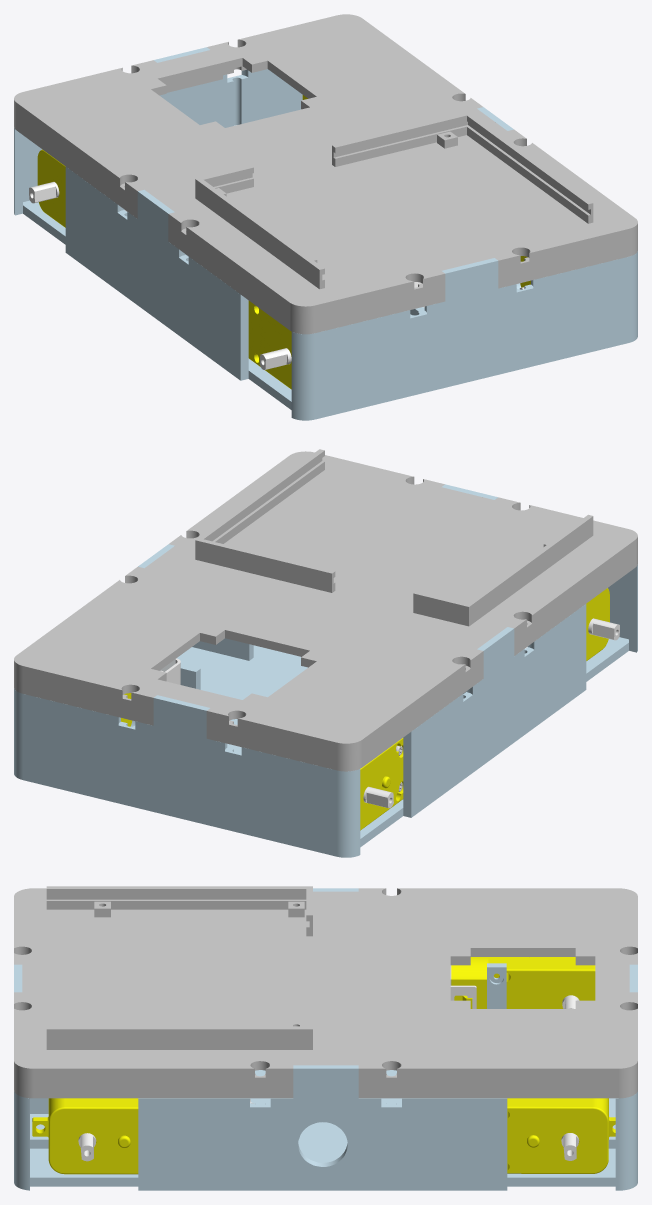
File: chassis.glb
3 renders of one model, top to bottom at view 1: azimuth 30°, elevation 25°; view 2: azimuth 150°, elevation 25°; view 3: azimuth 270°, elevation 25°, orthographic. The views are drawn at different scales.
Parts seen in each view (by area): view 1: Part 2, Part 1, Moteur - Enveloppe partie 2, Moteur - Enveloppe partie 1; view 2: Part 2, Part 1, Moteur - Enveloppe partie 1, Moteur - Enveloppe partie 2; view 3: Part 2, Part 1, Moteur - Enveloppe partie 1 (×2), Moteur - Enveloppe partie 2.
Part boxes in pixels (x1,y1,x2,y2): Part 2: (14, 14, 637, 334); Part 1: (14, 47, 637, 420); Moteur - Enveloppe partie 2: (248, 300, 291, 389); Moteur - Enveloppe partie 1: (37, 149, 65, 227); Part 2: (14, 449, 637, 771); Part 1: (14, 484, 637, 857); Moteur - Enveloppe partie 1: (360, 738, 403, 830); Moteur - Enveloppe partie 2: (586, 588, 609, 660); Part 2: (14, 886, 637, 1098); Part 1: (14, 888, 637, 1190); Moteur - Enveloppe partie 1 (×2): (32, 1098, 615, 1174); Moteur - Enveloppe partie 2: (451, 957, 595, 1008).
Size of the model in its own units: 0.1361 by 0.048 by 0.19.
